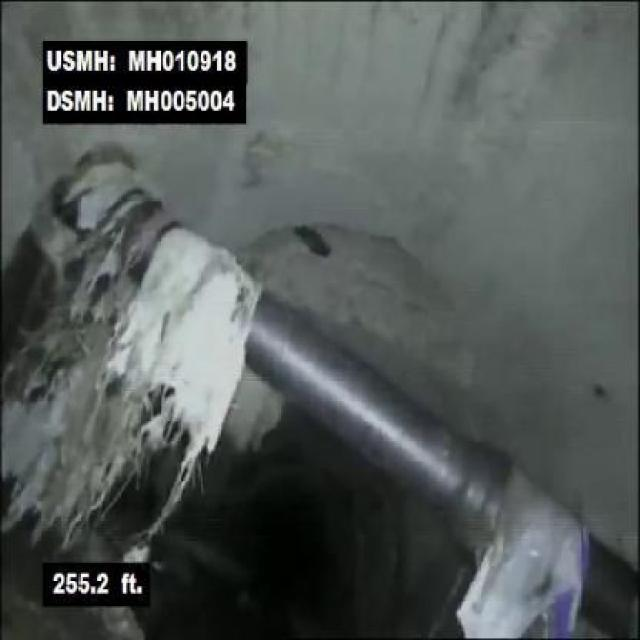Utility intrusion: (264, 286, 640, 638)
